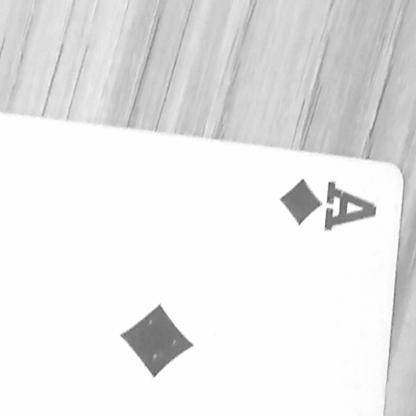AD: (250, 173, 396, 247)
